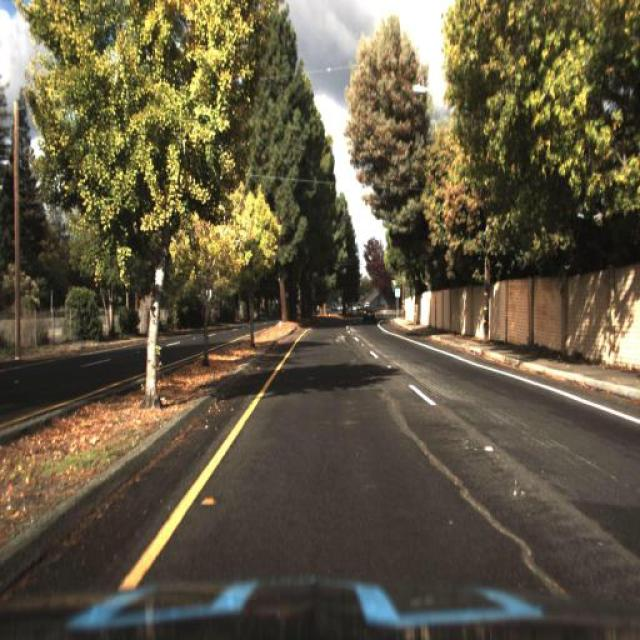car: (358, 300, 382, 325)
